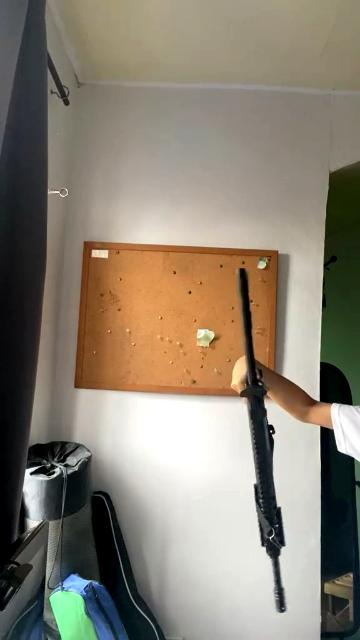rifle: (212, 266, 308, 616)
